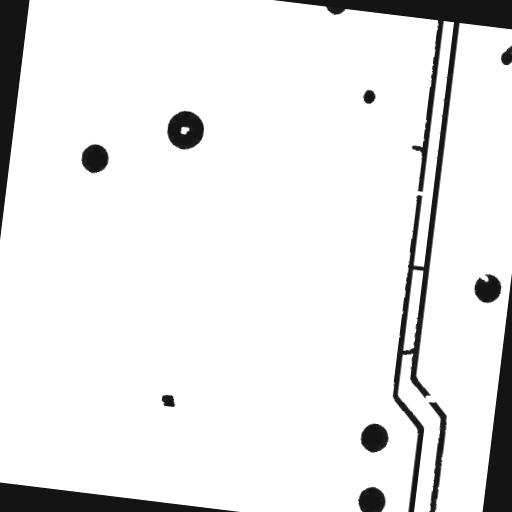copper: (154, 388, 182, 414)
mousebite: (472, 267, 496, 288)
open: (418, 388, 443, 411), (405, 184, 431, 202)
pin-hole: (174, 120, 196, 141)
short: (392, 339, 424, 362), (402, 258, 434, 278)
spur: (404, 138, 432, 160)
